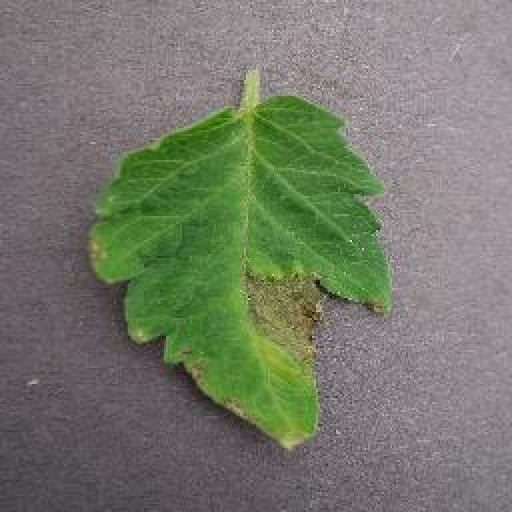Late Blight: (89, 92, 395, 451)
